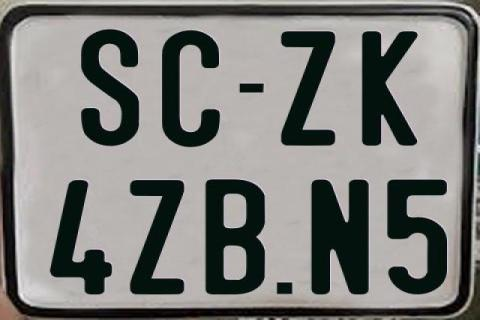0: (49, 180, 116, 297), (387, 178, 453, 294)
B: (204, 178, 270, 298)
C: (162, 29, 221, 150)
K: (359, 30, 417, 144)
N: (311, 178, 370, 298)
S: (81, 27, 139, 147)
Z: (129, 180, 186, 295), (280, 32, 334, 150)
